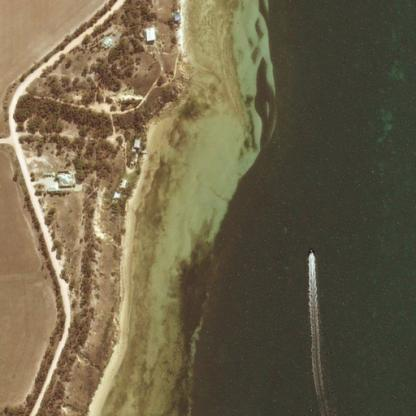ship: (301, 242, 318, 259)
